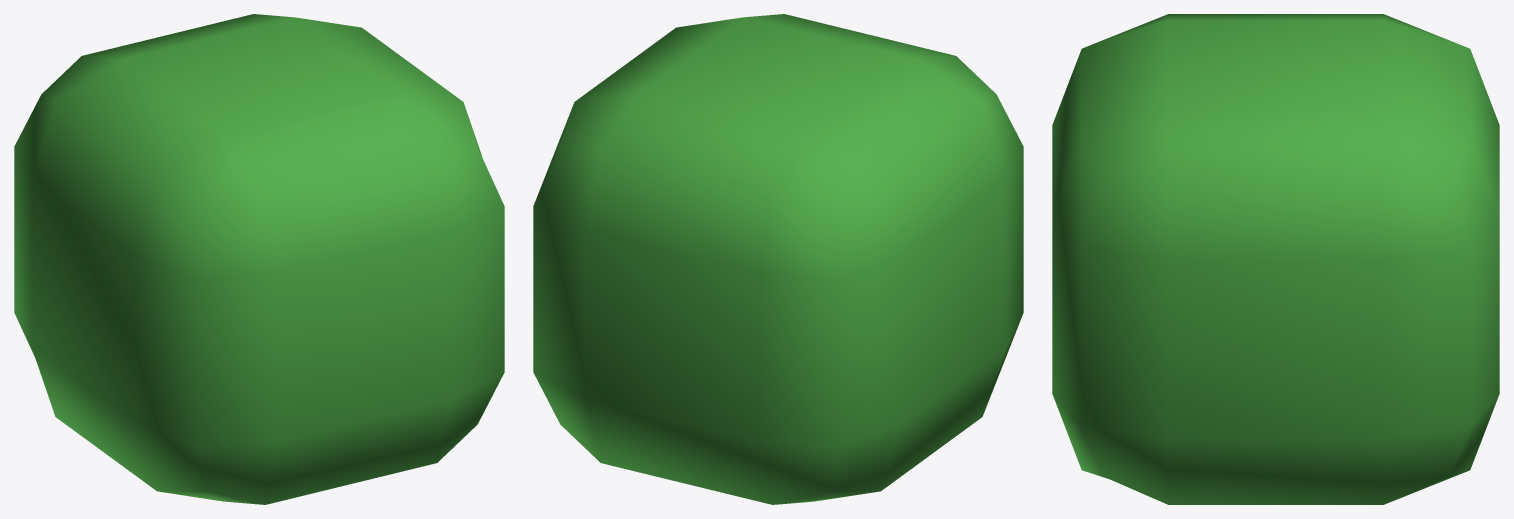
File: bush_s01.FBX
3 renders of one model, left to right at view 1: azimuth 30°, elevation 25°; view 2: azimuth 150°, elevation 25°; view 3: azimuth 270°, elevation 25°, orthographic. The views are drawn at different scales.
Parts seen in each view (by area): view 1: bush_s01; view 2: bush_s01; view 3: bush_s01.
Boxes of the visible parts, x1,y1,x2,y2 form: bush_s01: (14,14,504,504); bush_s01: (533,14,1023,504); bush_s01: (1052,14,1499,504).
Size of the model in its own units: 81 by 84.39 by 80.69.
Materials: 1 (1 with a texture image).
